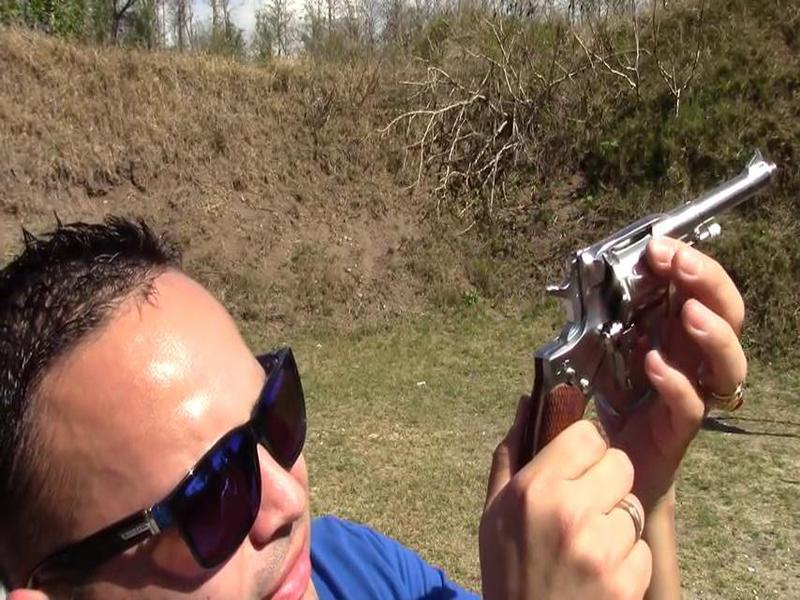Revolver: (501, 135, 800, 468)
